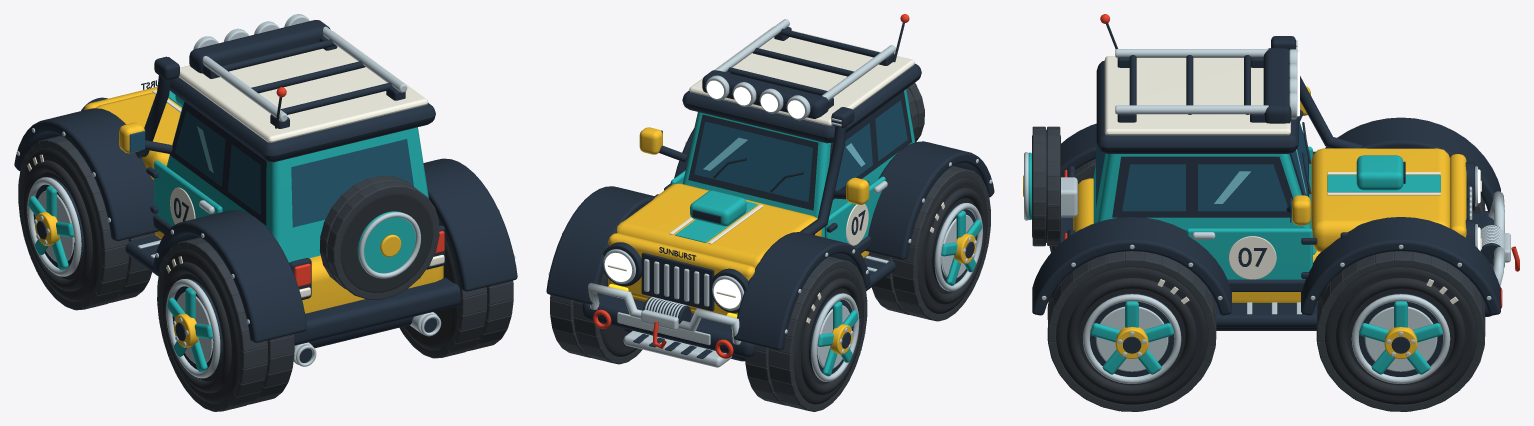
File: codex_jeep.glb
3 renders of one model, left to right at view 1: azimuth 30°, elevation 25°; view 2: azimuth 150°, elevation 25°; view 3: azimuth 270°, elevation 25°, orthographic. The views are drawn at different scales.
Visible parts, largest first — view 1: CodexJeep; view 2: CodexJeep; view 3: CodexJeep.
Boxes of the visible parts, left/top/right/bottom form: CodexJeep: left=14, top=14, right=517, bottom=411; CodexJeep: left=546, top=14, right=994, bottom=411; CodexJeep: left=1023, top=14, right=1519, bottom=411.
Bounding box in the file's own units: 1.75 × 1.68 × 2.5.
